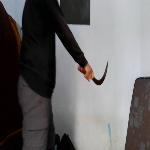Celurit: (74, 56, 114, 87)
